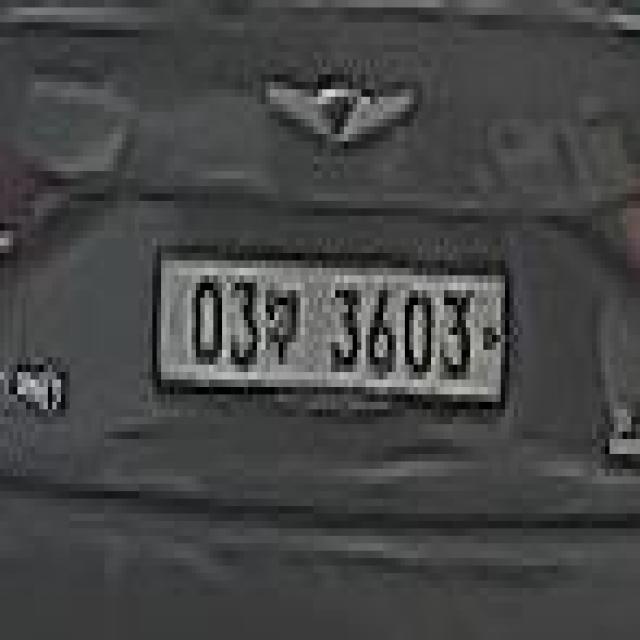illegal_plate: (151, 238, 510, 425)
